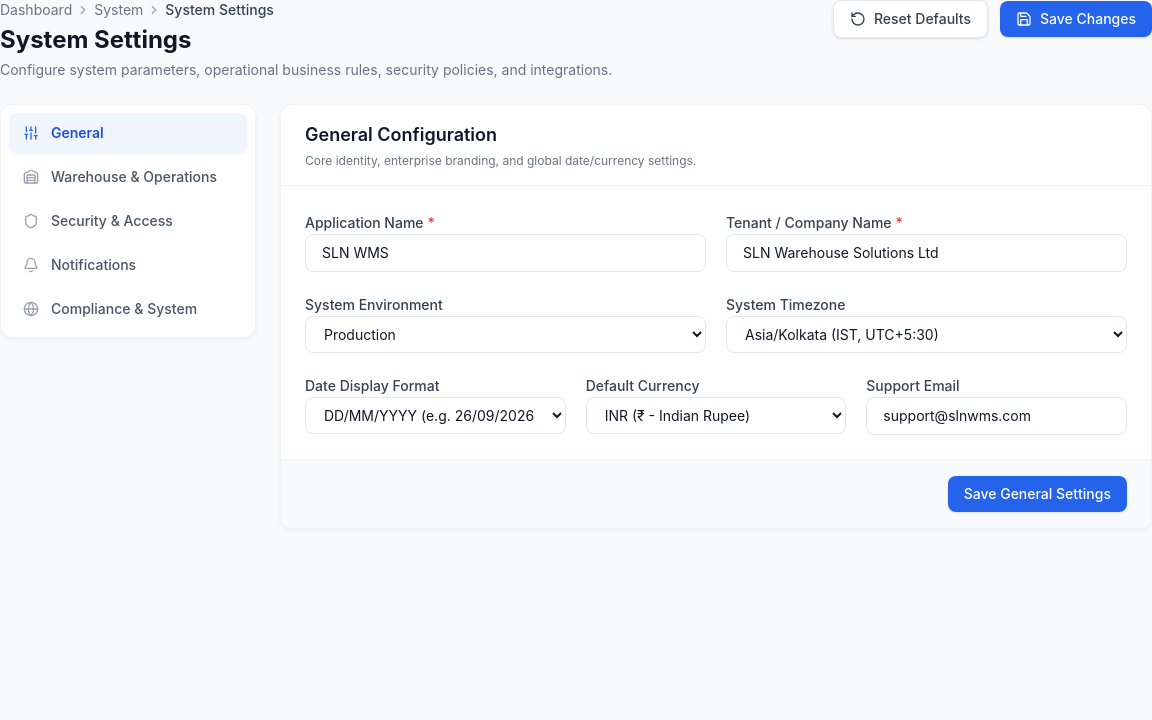
Scenario: SystemSettingsPage Component › should switch between tabs and display corresponding settings
Note: Switch to Warehouse & Operations tab
Click the button "Warehouse & Operations".
click(128, 177)  # box [9, 157, 247, 197]
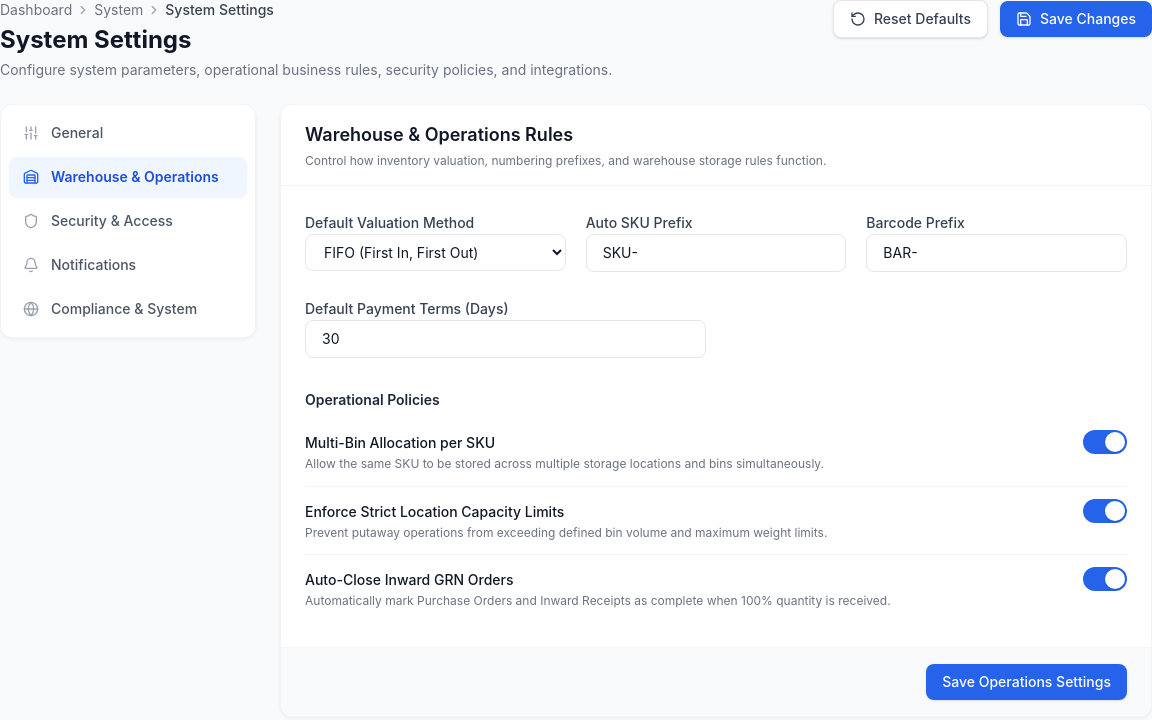
Check: the heading "Warehouse & Operations Rules" is shown, box [305, 124, 573, 145]
Check: the dropdown labelled "Default Valuation Method" is shown, box [305, 234, 566, 271]
Check: the field labelled "Auto SKU Prefix" holds "SKU-", box [586, 234, 846, 272]
Note: Switch to Security & Access tab
Click the button "Security & Access".
click(128, 221)  # box [9, 201, 247, 241]
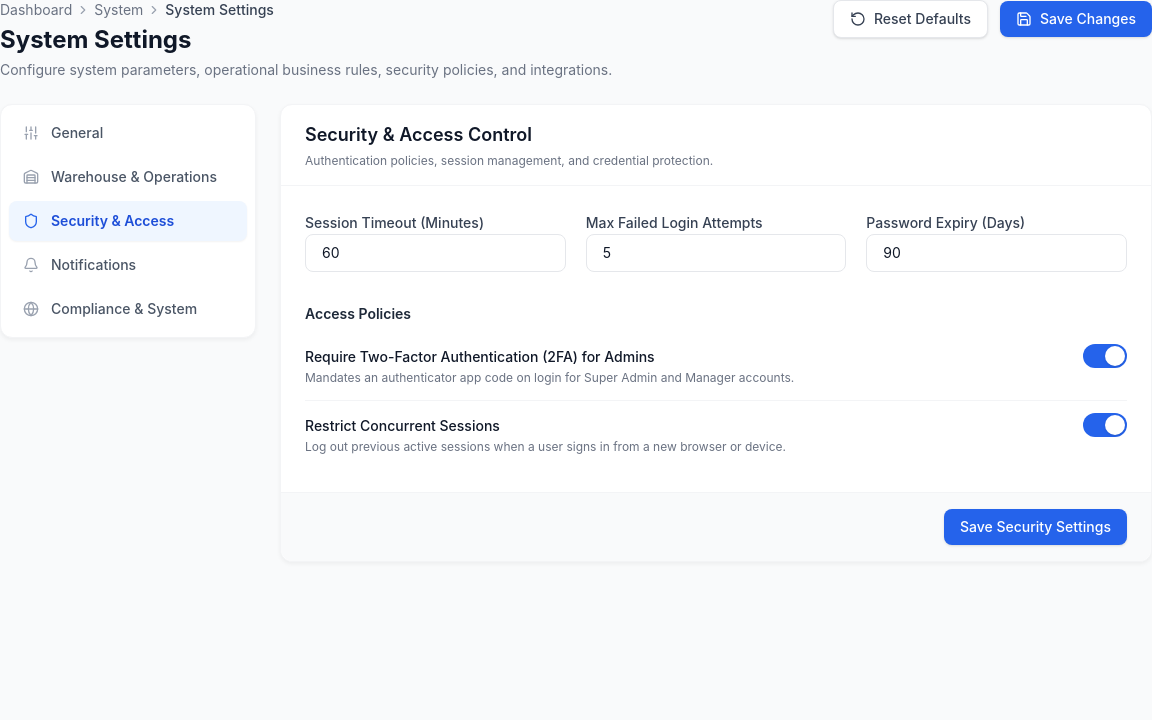
Check: the heading "Security & Access Control" is shown, box [305, 124, 532, 145]
Check: the number field labelled "Session Timeout (Minutes)" is shown, box [305, 234, 566, 272]
Note: Switch to Notifications tab
Click the button "Notifications".
click(128, 265)  # box [9, 245, 247, 285]
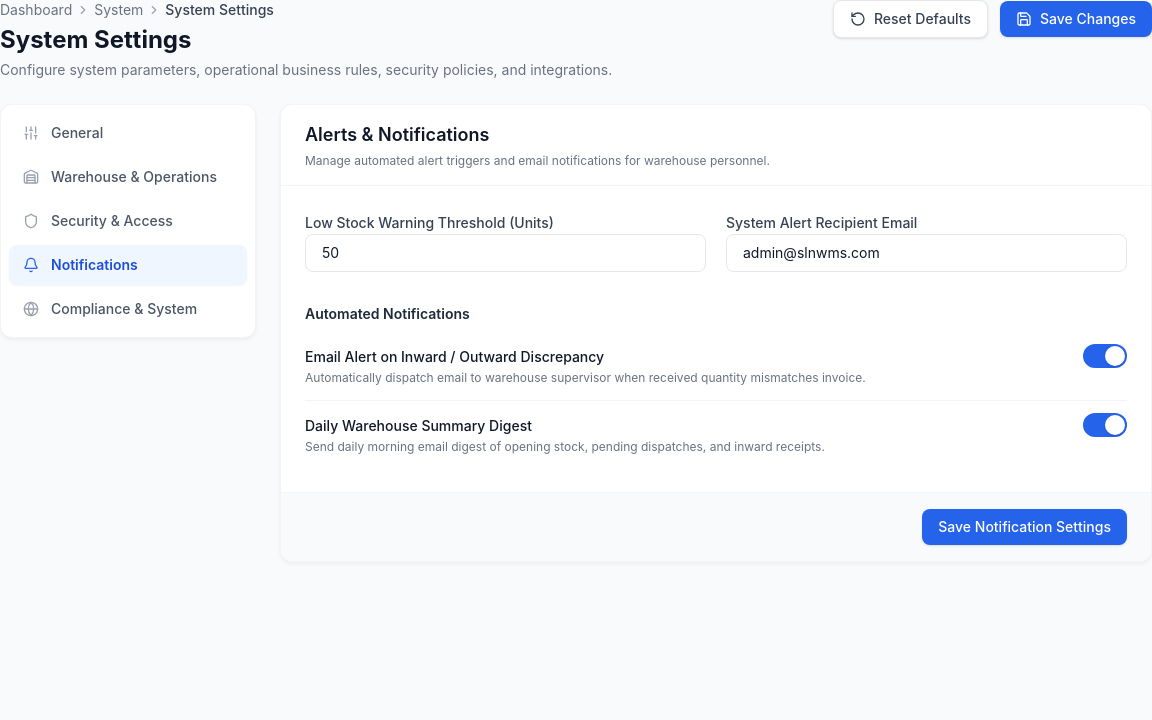
Check: the heading "Alerts & Notifications" is shown, box [305, 124, 490, 145]
Check: the number field labelled "Low Stock Warning Threshold (Units)" is shown, box [305, 234, 706, 272]
Note: Switch to Compliance & System tab
Click the button "Compliance & System".
click(128, 309)  # box [9, 289, 247, 329]
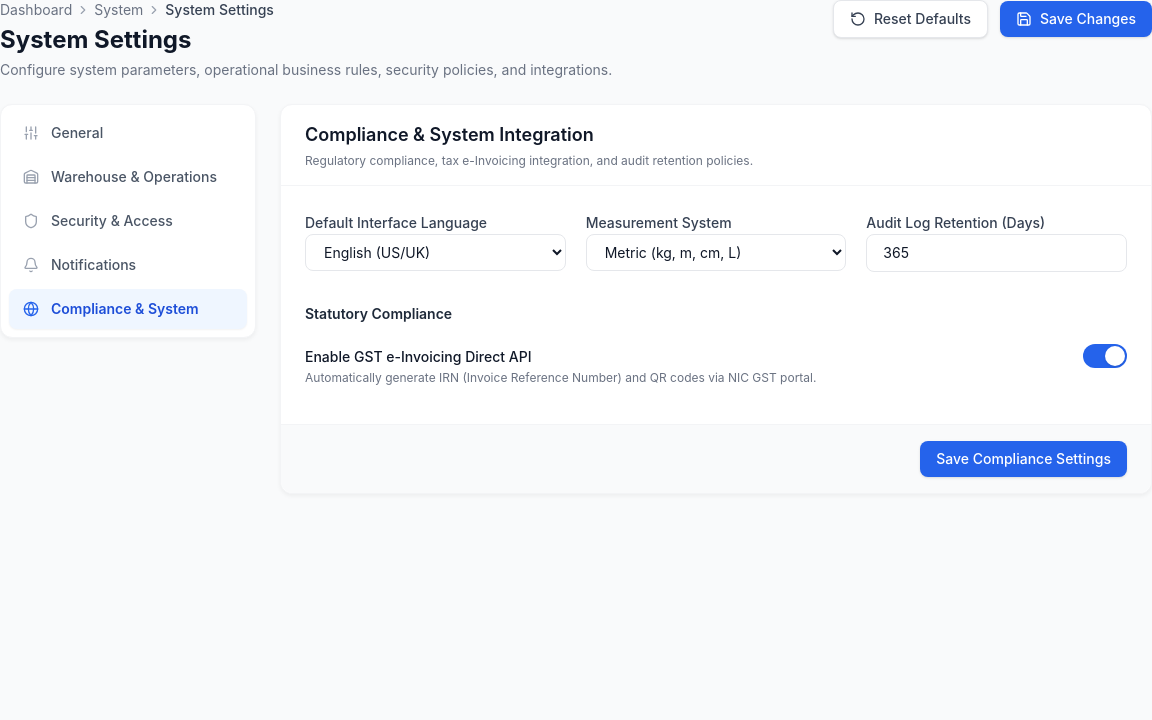
Check: the heading "Compliance & System Integration" is shown, box [305, 124, 594, 145]
Check: the dropdown labelled "Default Interface Language" is shown, box [305, 234, 566, 271]
